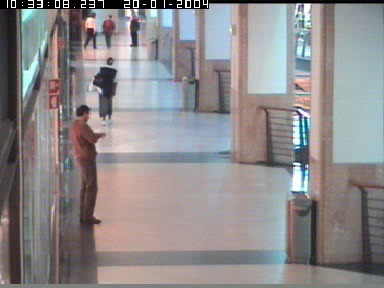person: (72, 103, 106, 224), (87, 56, 117, 125), (101, 14, 115, 49), (84, 12, 96, 49), (129, 10, 141, 47)
